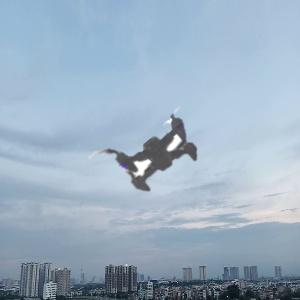drone: (66, 57, 262, 253)
